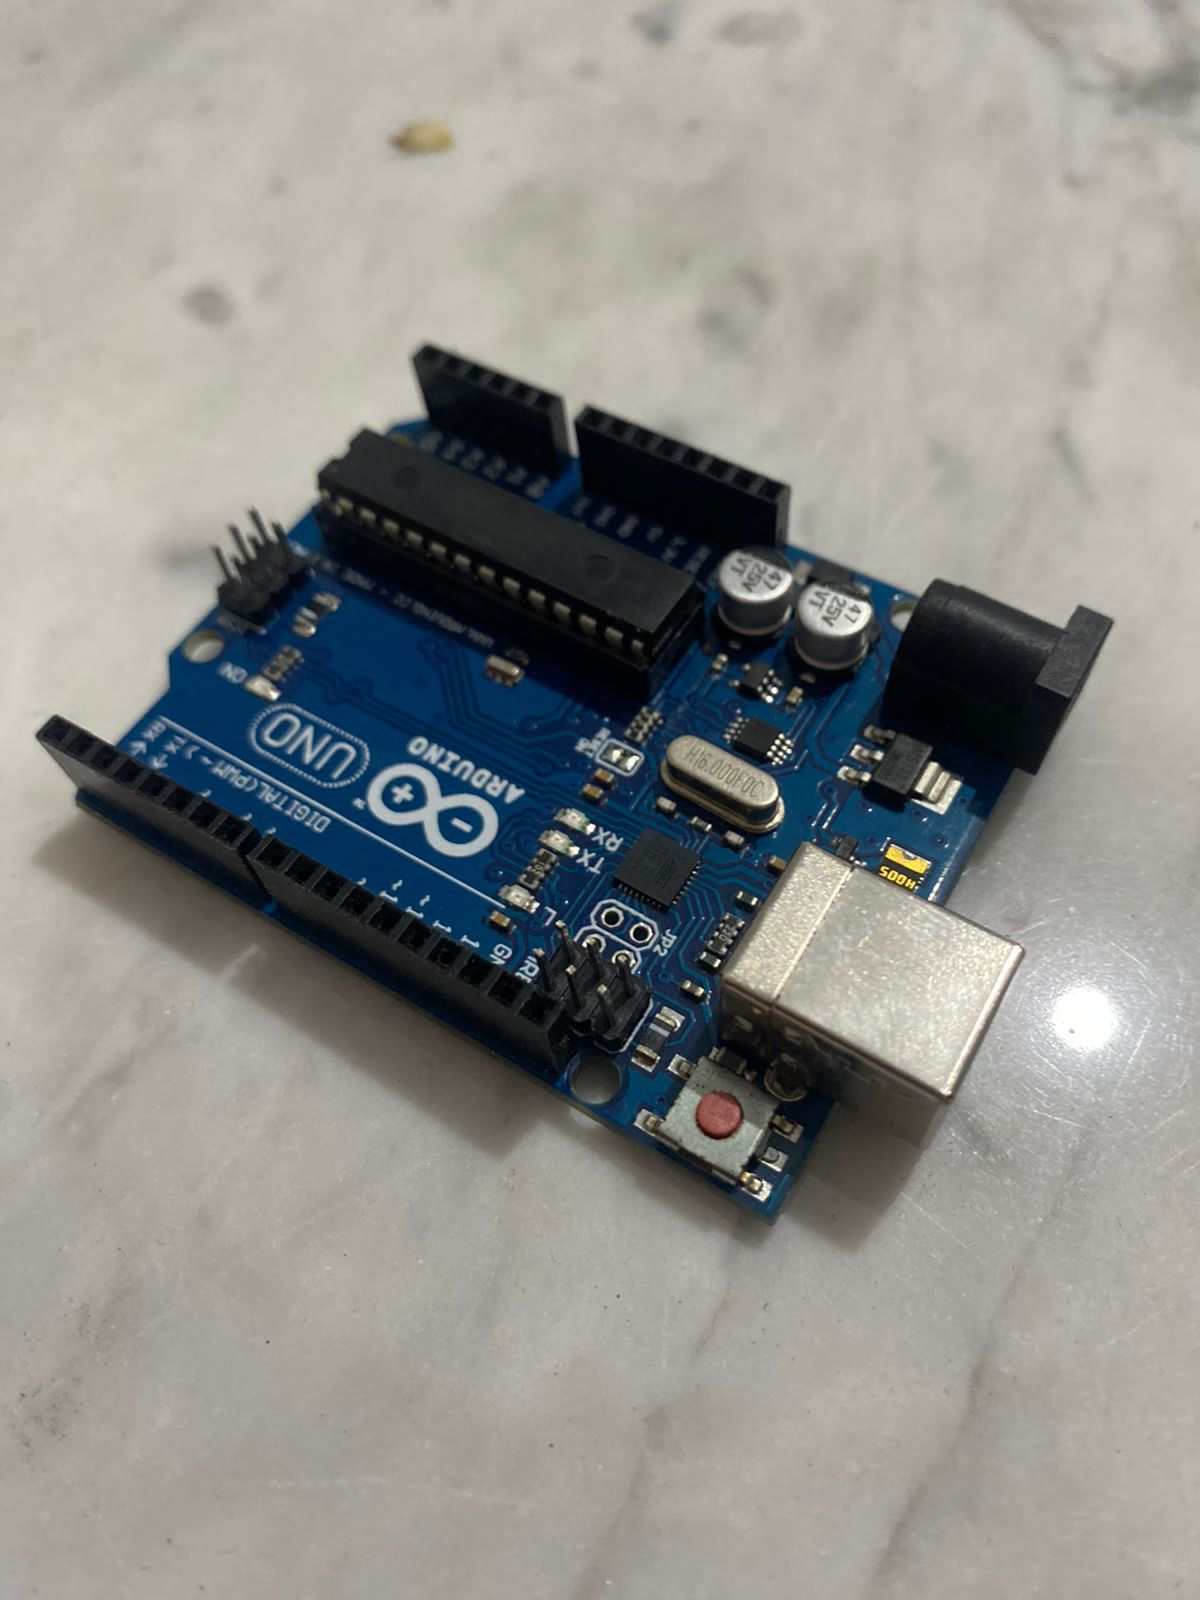arduino-uno: (32, 301, 1116, 1245)
